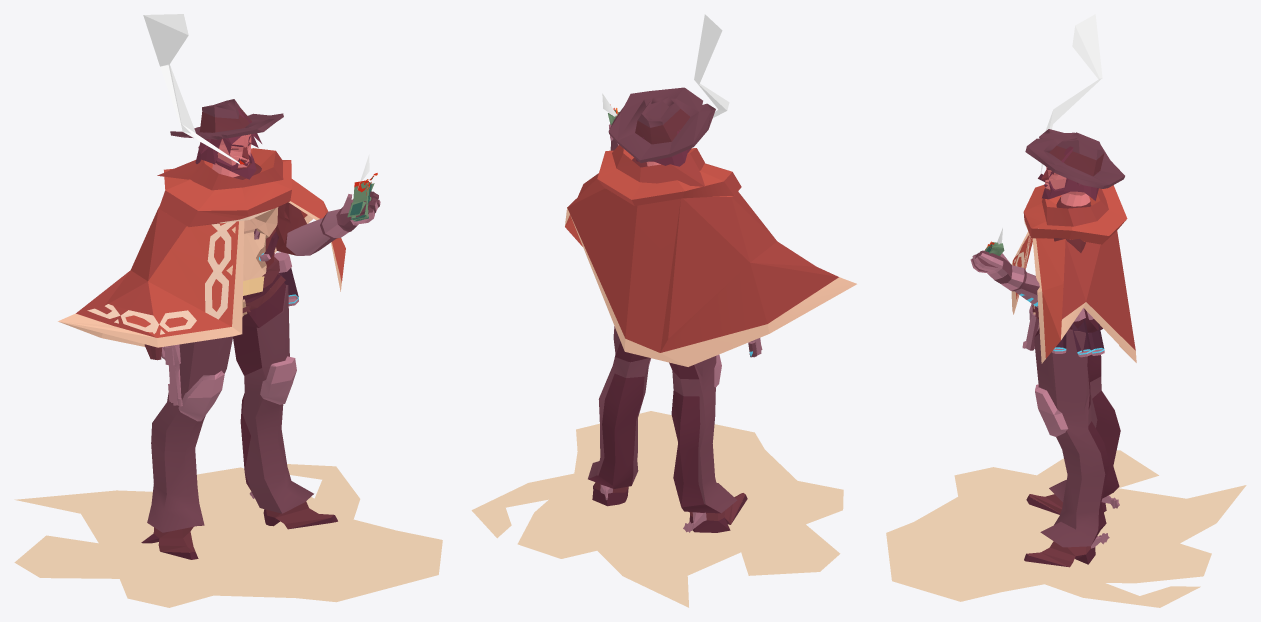
The model's file is low-poly-mccree-38aedc.glb.
3 renders of one model, left to right at view 1: azimuth 30°, elevation 25°; view 2: azimuth 150°, elevation 25°; view 3: azimuth 270°, elevation 25°, orthographic. The views are drawn at different scales.
Visible parts, largest first — view 1: PropMesh; view 2: PropMesh; view 3: PropMesh.
Part boxes in pixels (<box>): PropMesh: <box>14,14,442,607</box>; PropMesh: <box>471,14,856,607</box>; PropMesh: <box>886,14,1246,607</box>.
Size of the model in its own units: 1.28 by 1.9 by 1.26.
